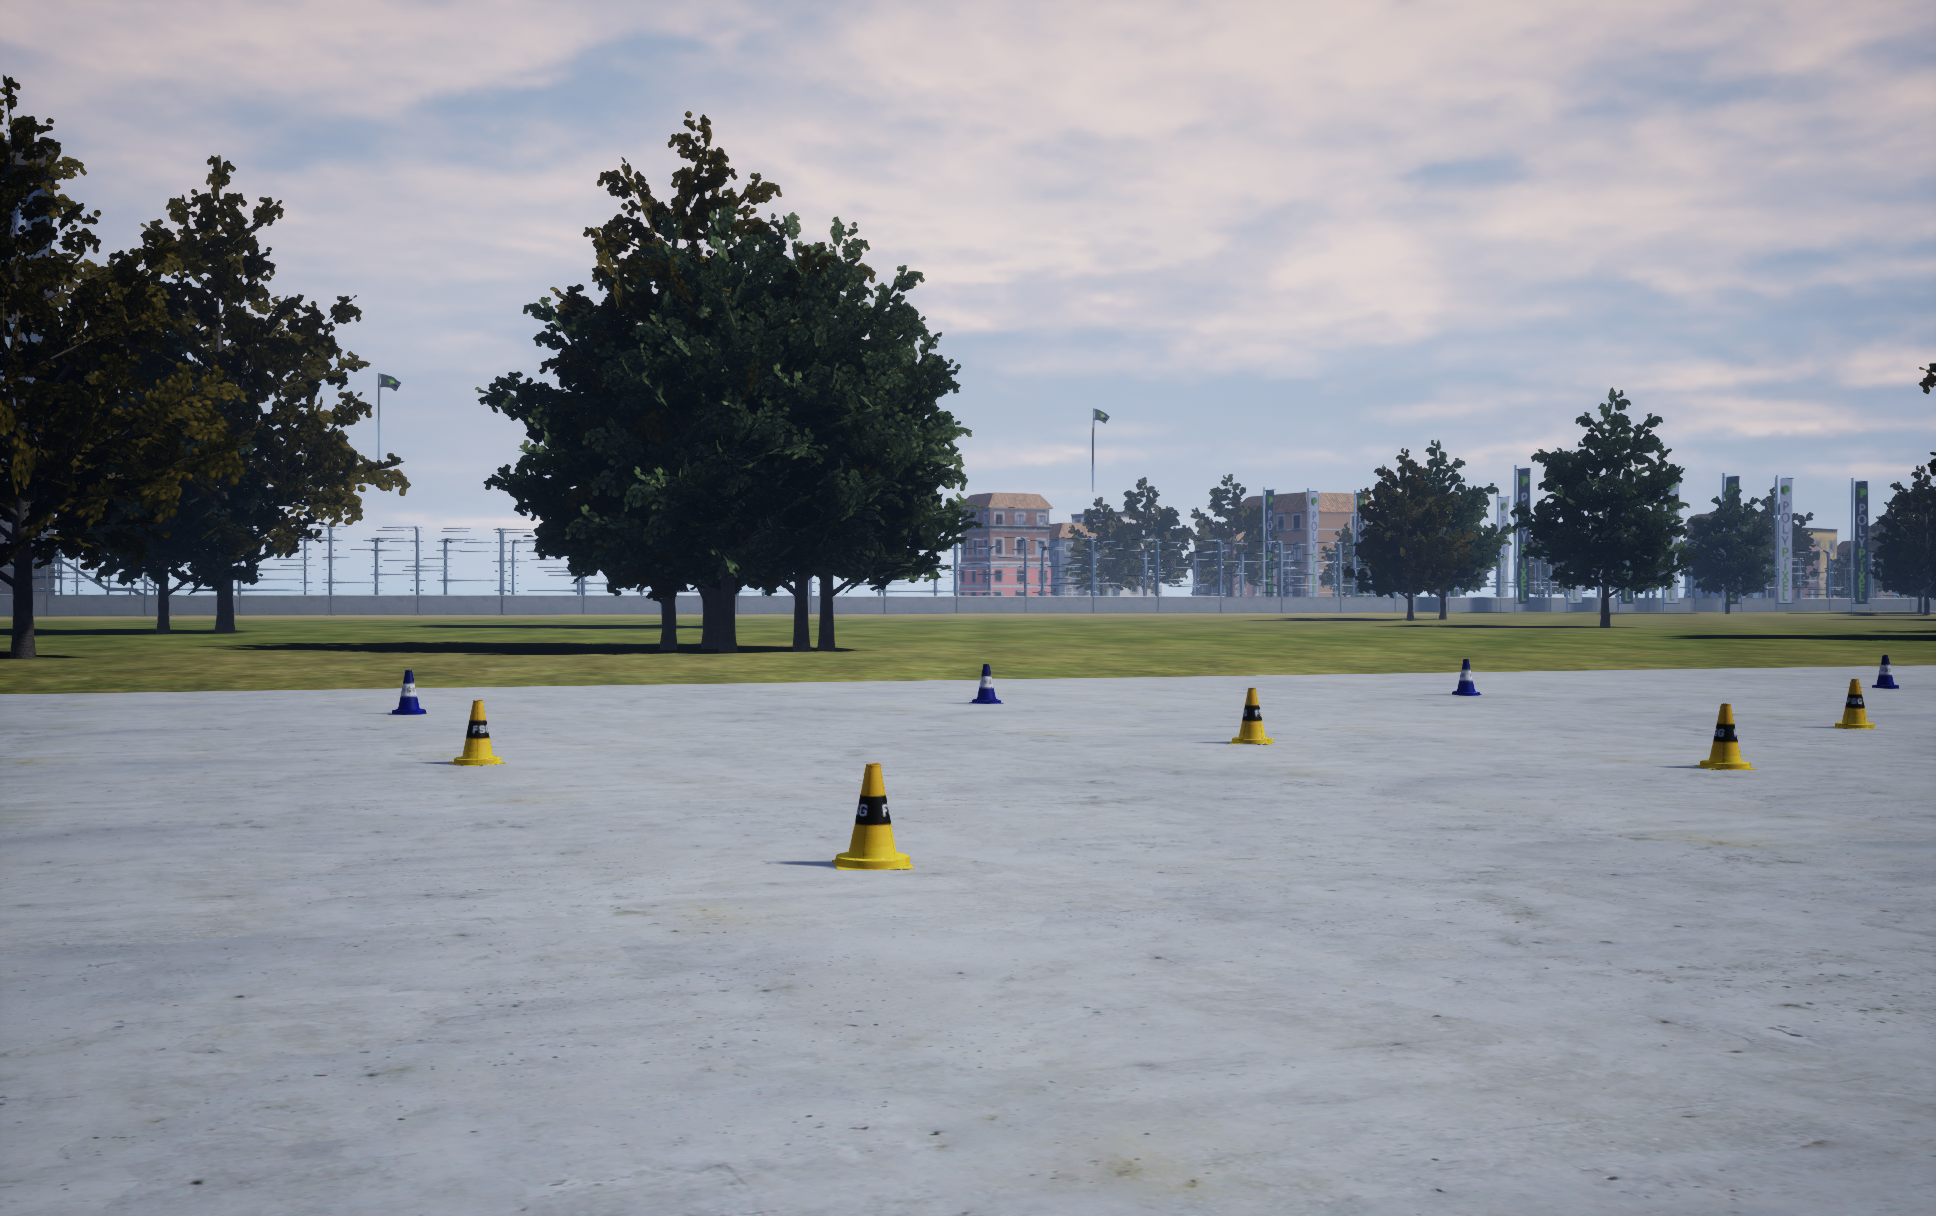blue: (832, 764, 913, 869), (1694, 703, 1757, 769), (445, 700, 509, 765), (1229, 688, 1273, 744), (1832, 679, 1874, 728)
yellow: (388, 670, 426, 714), (969, 664, 1003, 703), (1451, 658, 1481, 695), (1872, 656, 1898, 688)
